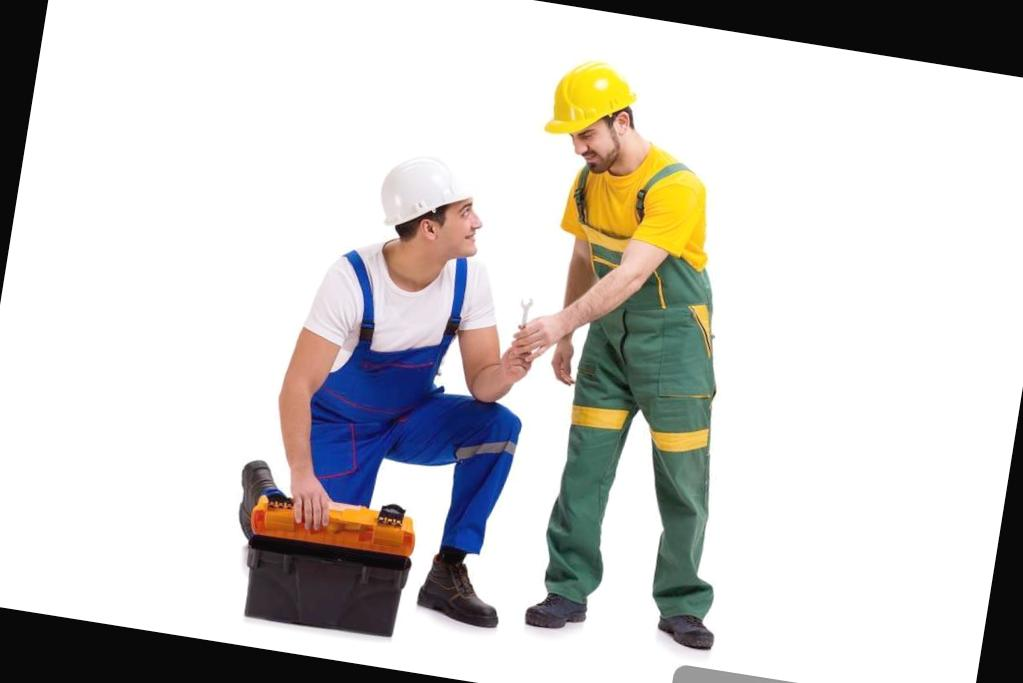helmet: (379, 139, 487, 250), (543, 56, 649, 146)
no_vest: (299, 237, 484, 447)
person: (463, 42, 789, 656), (252, 132, 554, 630)
